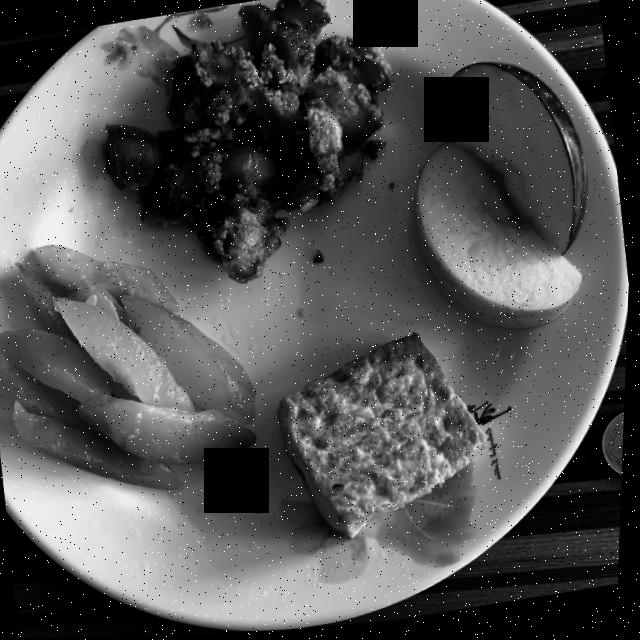apple -sliced-: (416, 65, 588, 332)
coin: (604, 415, 628, 479)
red grilled pork: (105, 0, 393, 285)
